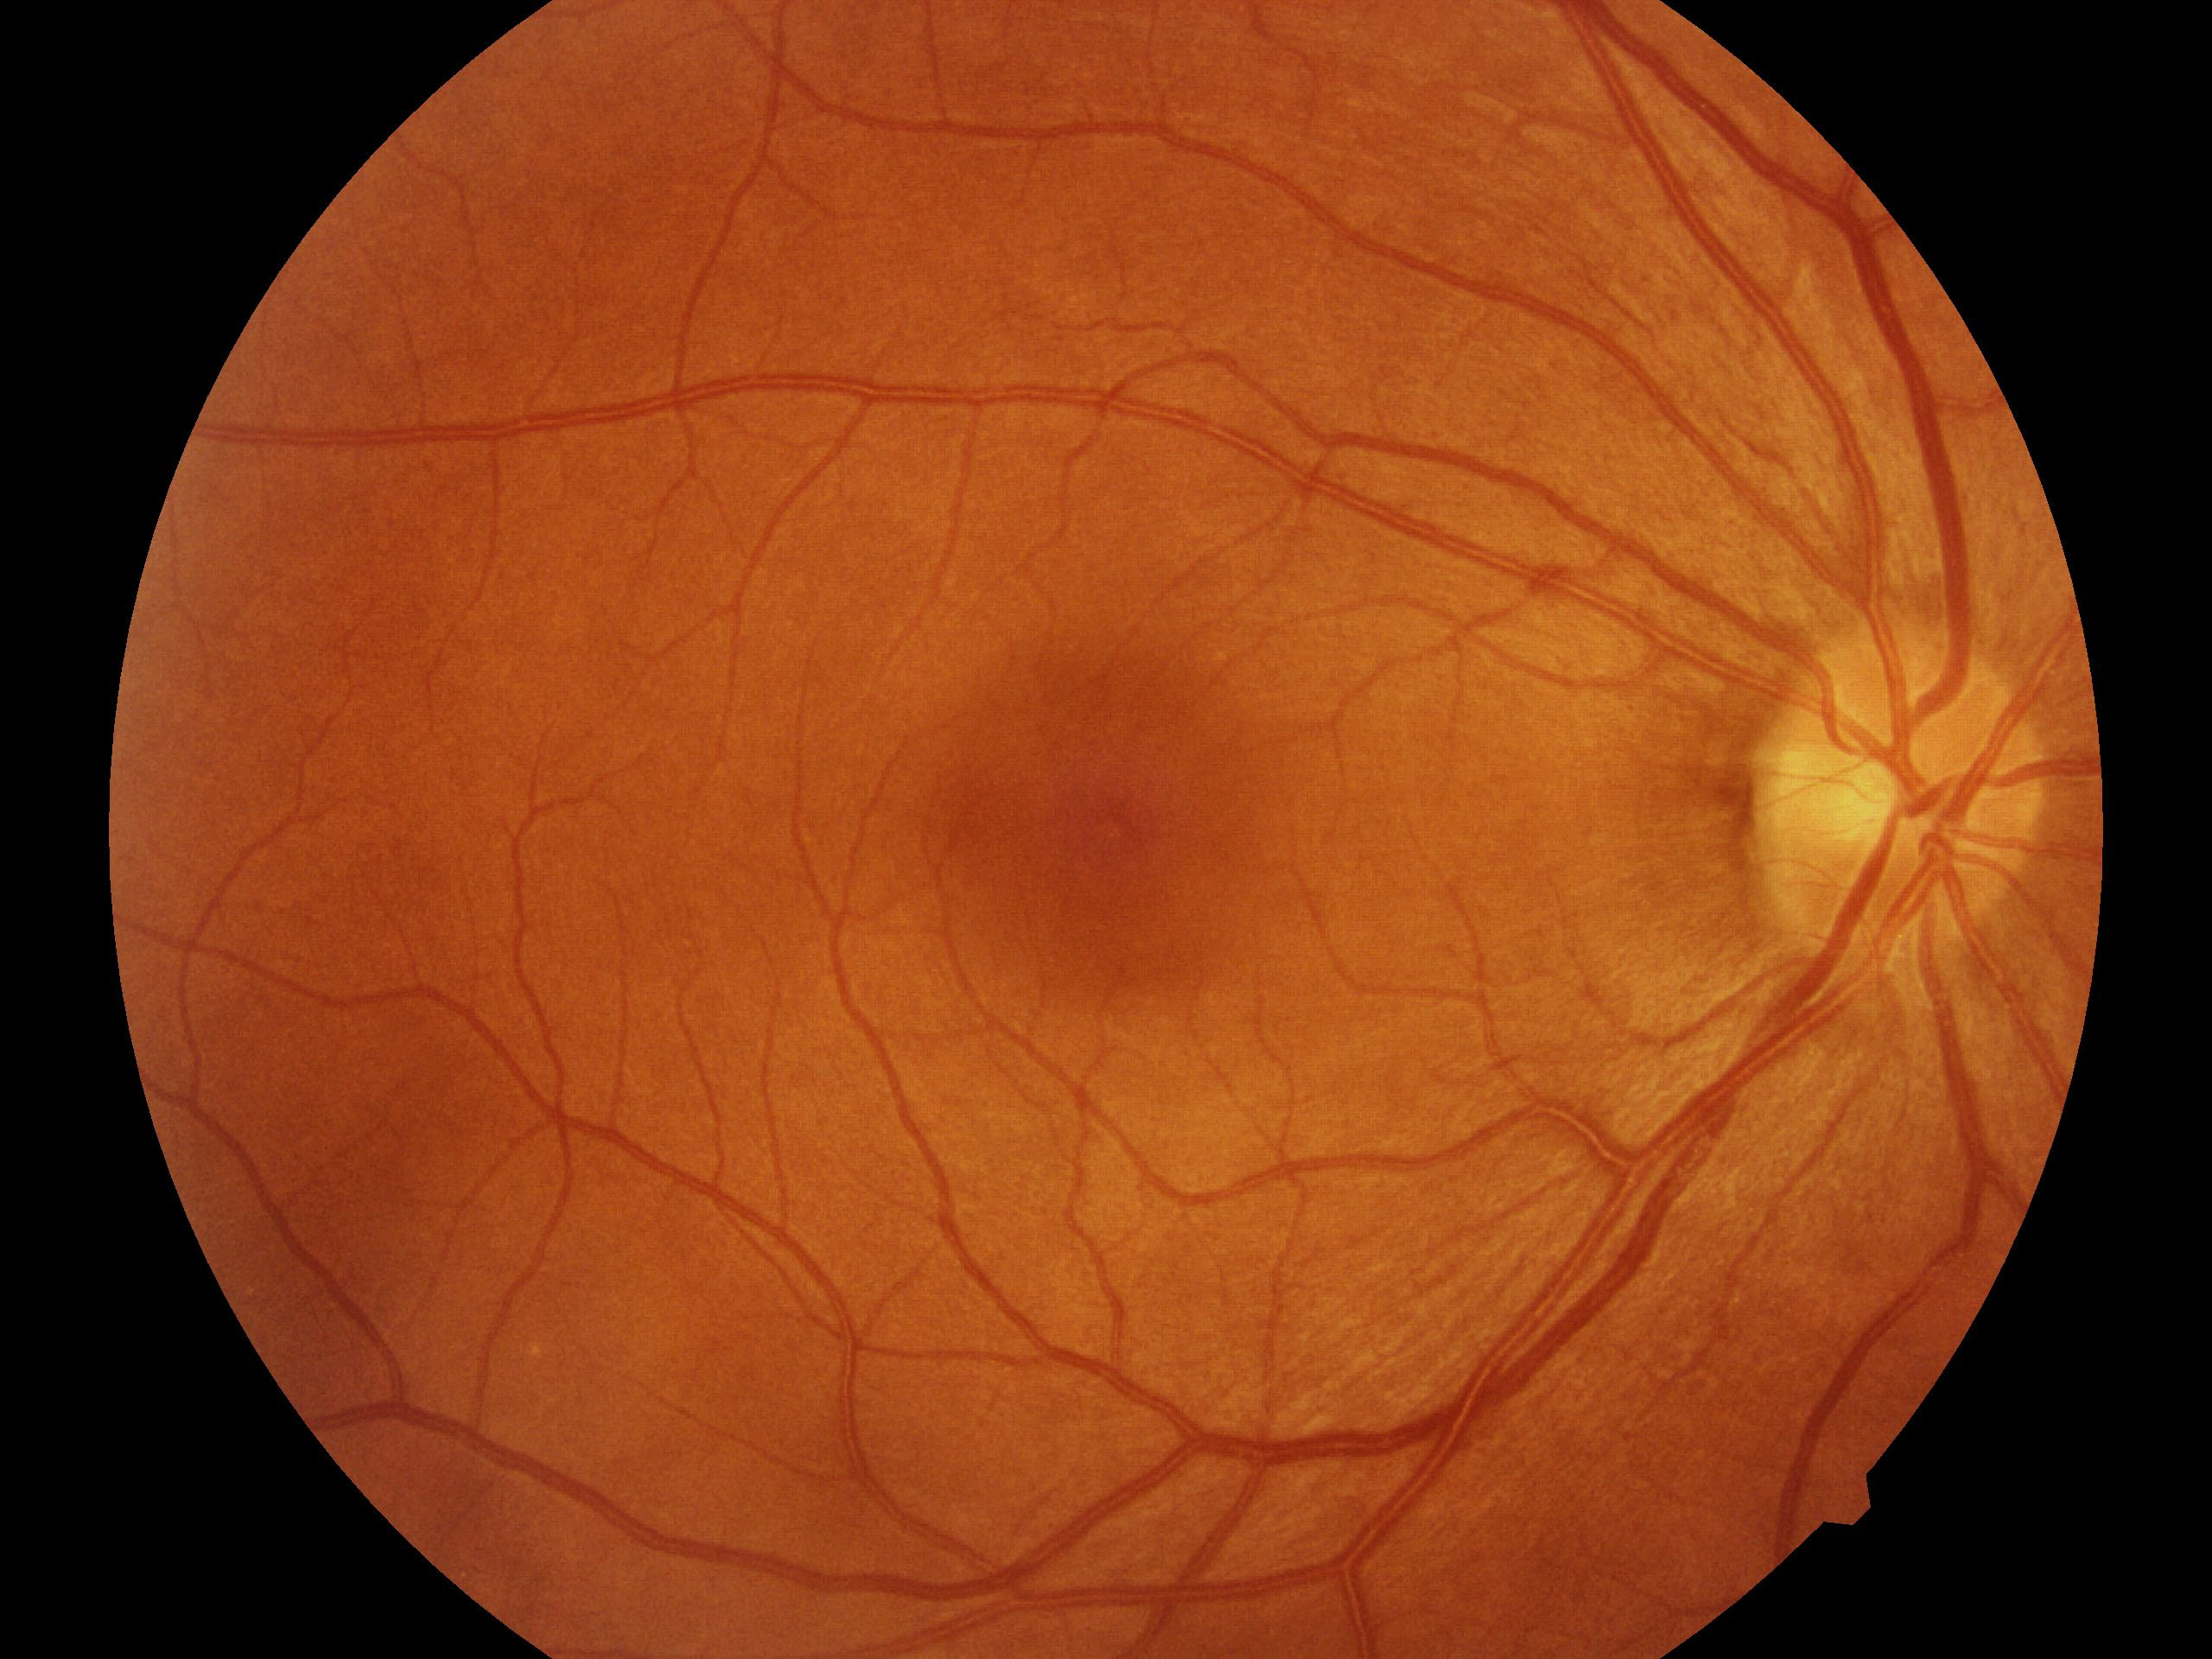Hemorrhages: (993, 638, 1245, 999)
Optic-Disc: (1782, 580, 2045, 969)
Venules: (941, 1100, 1622, 1621), (1627, 24, 1949, 519)
